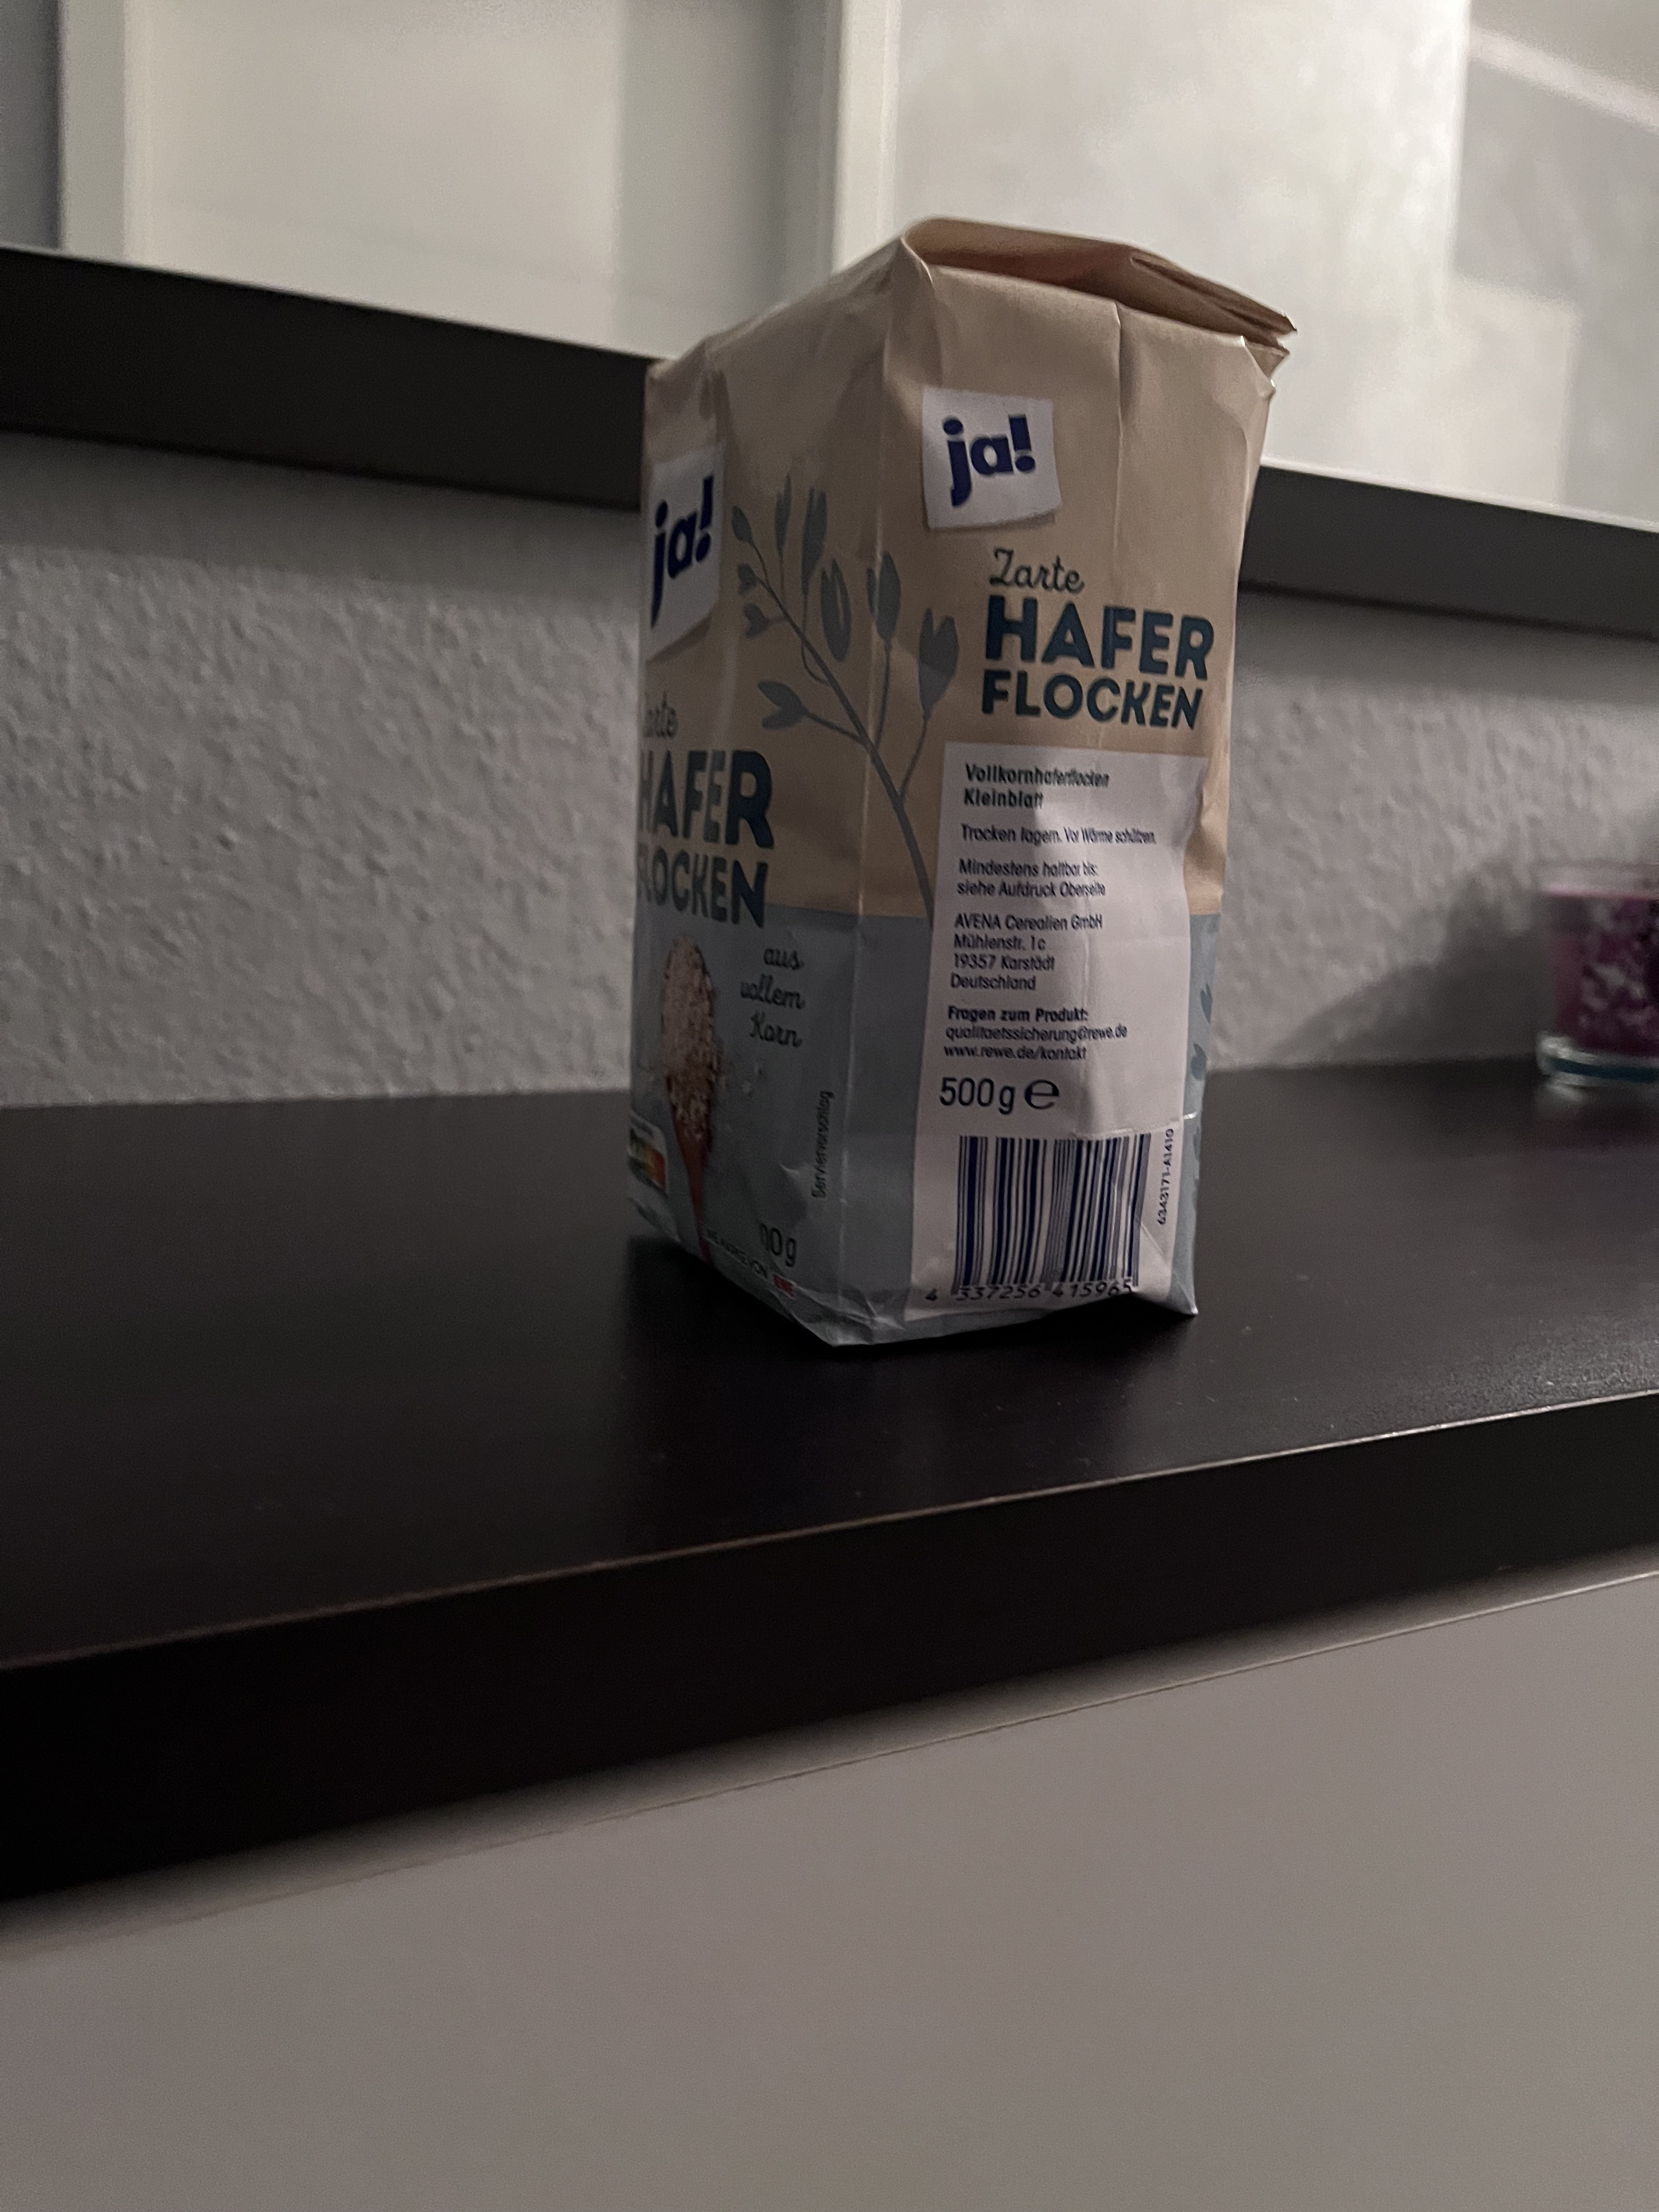haferflocken_ja: (608, 209, 1295, 1360)
